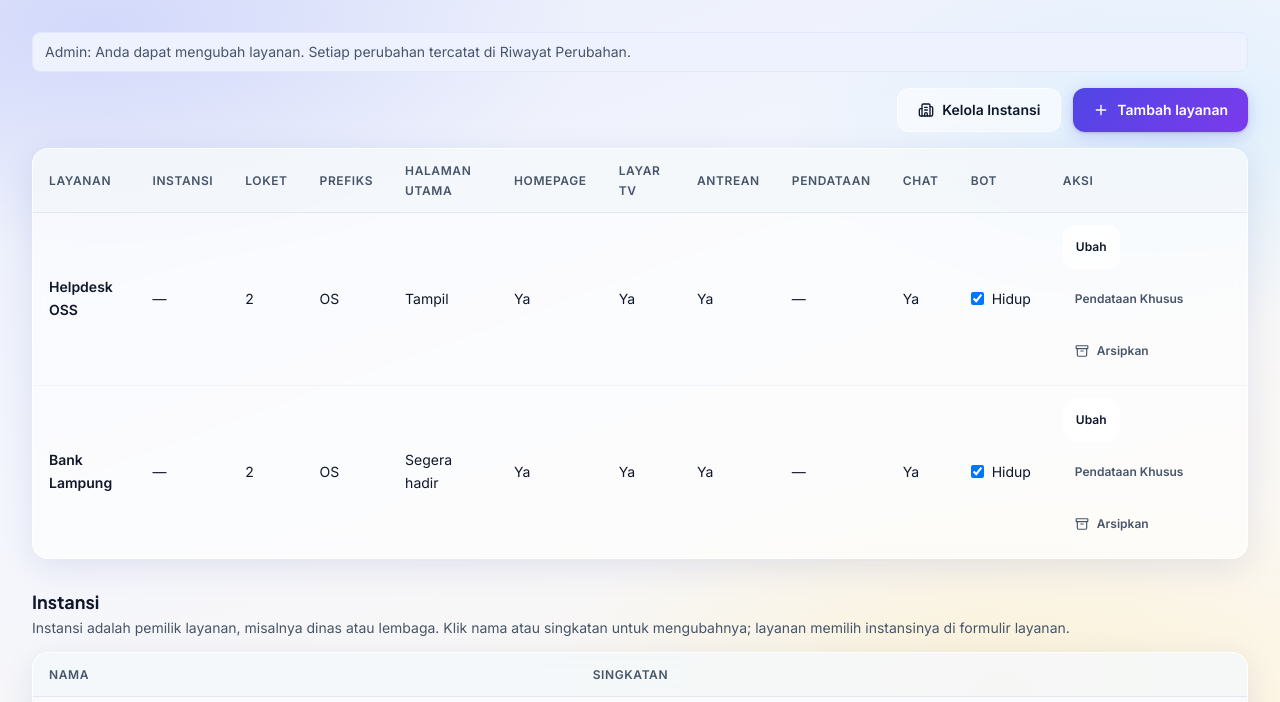
kelola layanan › Admin › prefiks 1 huruf ditolak di klien (alert di bawah isian, aria-invalid) tanpa PATCH
The width and height of the screenshot is (1280, 702).
Click the button with aria-label "Ubah Helpdesk OSS": click(1091, 247) x1=1063 y1=225 x2=1120 y2=269
(page scrolled)
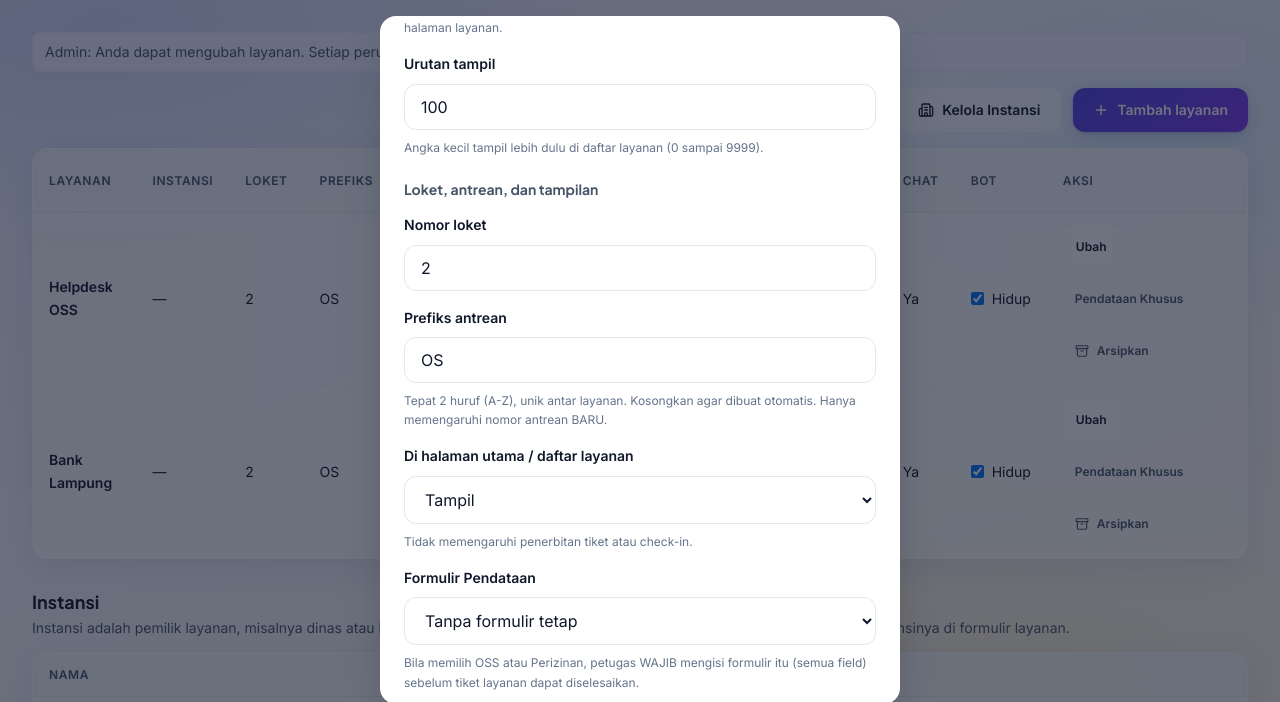
Replace the text in the field labelled "Prefiks antrean" with "x": (640, 360) x1=404 y1=337 x2=876 y2=383
(page scrolled)
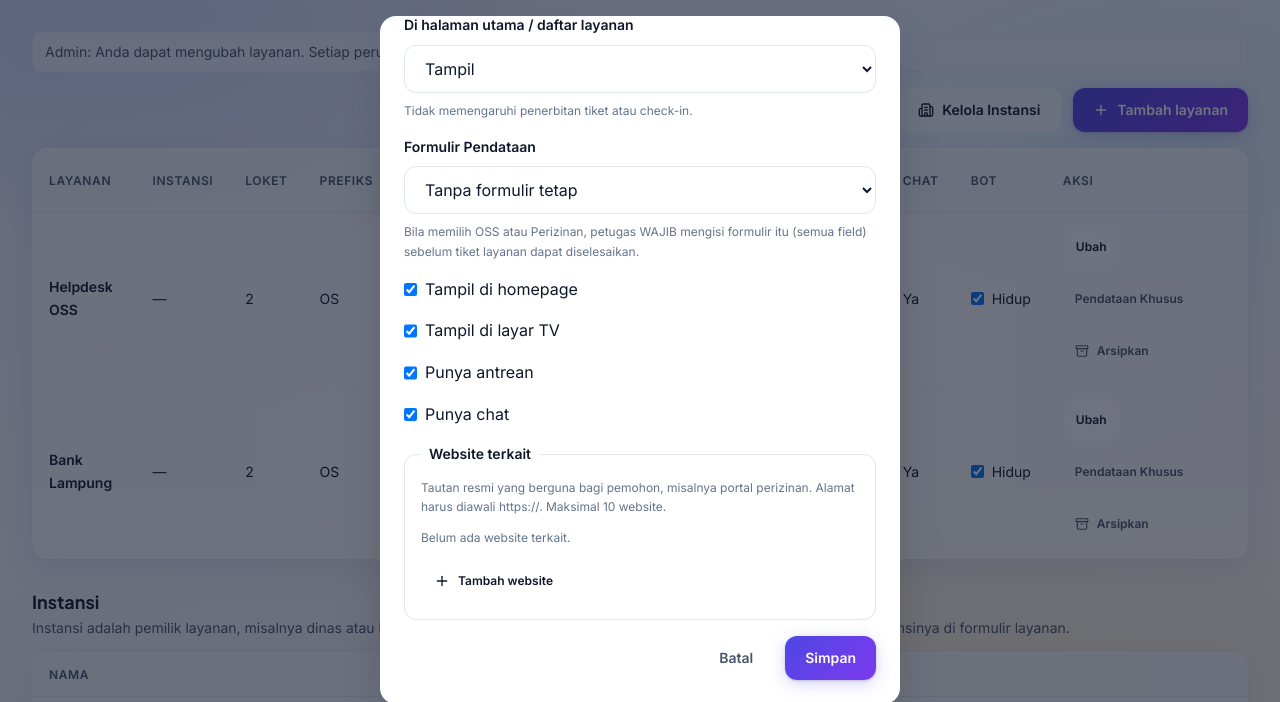
Click the button "Simpan": click(831, 658) x1=785 y1=636 x2=876 y2=680
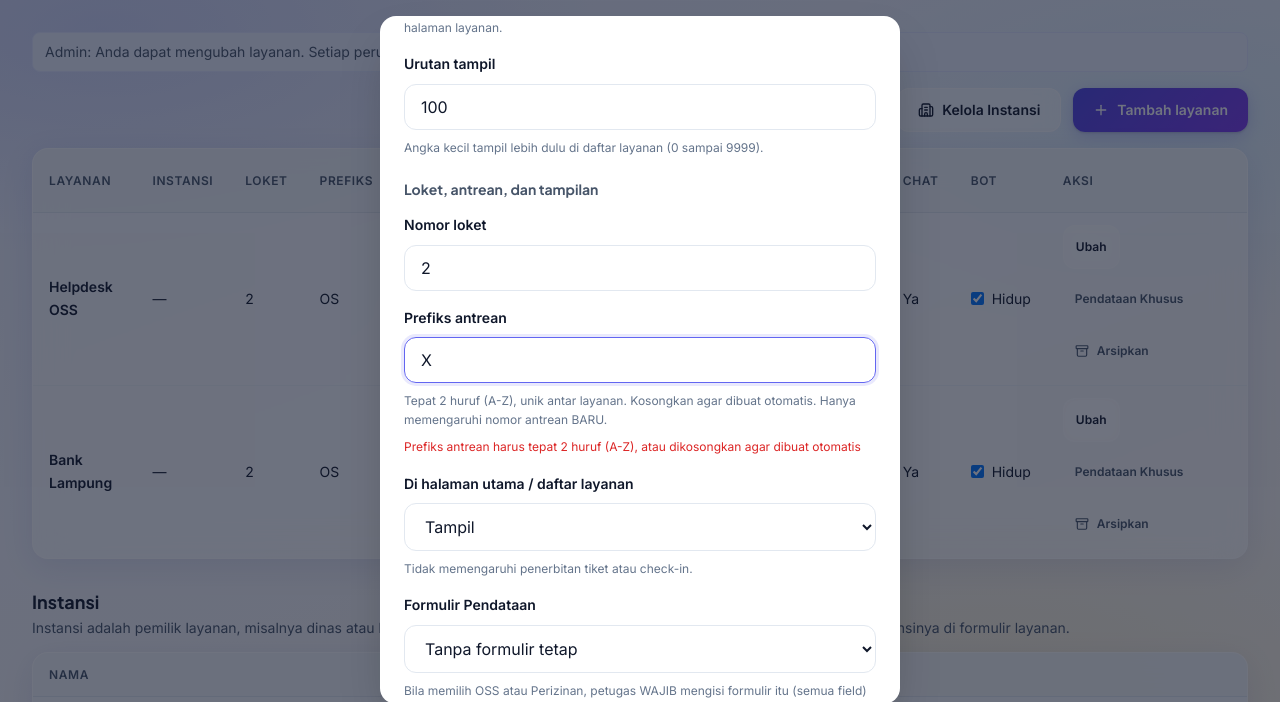
Expected: the message shows "tepat 2 huruf", x1=404 y1=439 x2=861 y2=454
